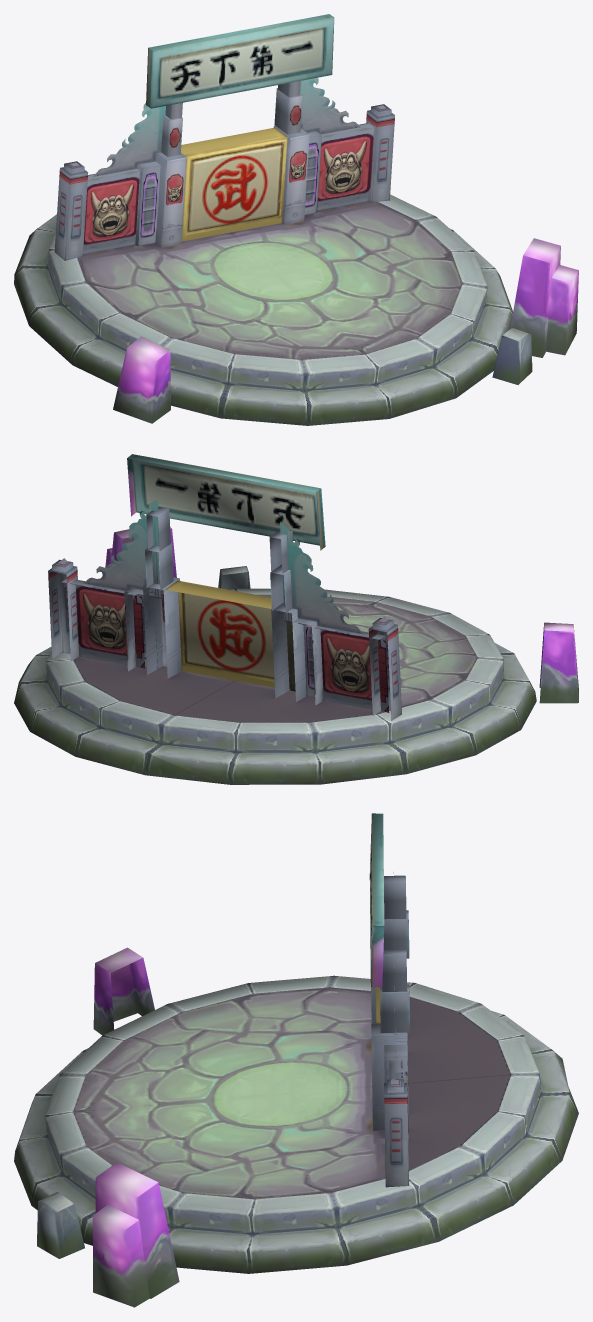
3 views of the same model, one above another, from view 1: azimuth 30°, elevation 25°; view 2: azimuth 150°, elevation 25°; view 3: azimuth 270°, elevation 25° (orthographic). The views are drawn at different scales.
Visible parts, largest first — view 1: Object164; view 2: Object164; view 3: Object164.
Part boxes in pixels (bbox=[...]): Object164: bbox=[14, 14, 578, 425]; Object164: bbox=[14, 454, 578, 784]; Object164: bbox=[14, 813, 578, 1307].
Size of the model in its own units: 570 by 334 by 534.
